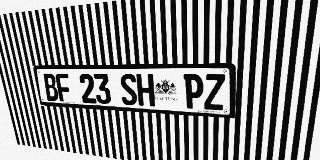2: (79, 74, 97, 103)
3: (93, 74, 111, 104)
B: (42, 74, 59, 101)
F: (55, 74, 72, 102)
H: (136, 74, 155, 107)
P: (184, 74, 203, 109)
S: (119, 74, 138, 106)
Z: (204, 74, 225, 110)
